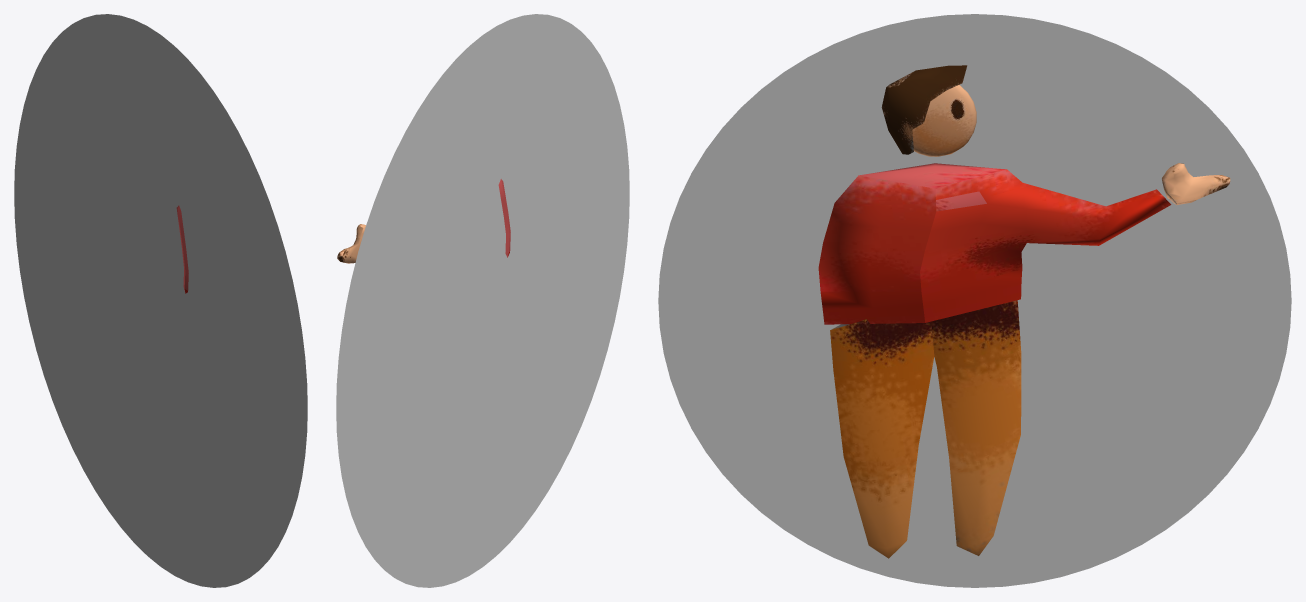
3 renders of one model, left to right at view 1: azimuth 30°, elevation 25°; view 2: azimuth 150°, elevation 25°; view 3: azimuth 270°, elevation 25°, orthographic. The views are drawn at different scales.
Visible parts, largest first — view 1: 圆盘, 胶囊; view 2: 圆盘, 细分曲面.1, 胶囊; view 3: 圆盘, 胶囊, 胶囊.1, 胶囊.2, 球体.1, 细分曲面.2, 细分曲面.1.
Boxes of the visible parts, bbox=[...] form: 圆盘: bbox=[14, 14, 307, 587]; 胶囊: bbox=[176, 205, 188, 293]; 圆盘: bbox=[336, 14, 629, 587]; 细分曲面.1: bbox=[337, 224, 365, 263]; 胶囊: bbox=[498, 179, 510, 257]; 圆盘: bbox=[658, 14, 1291, 587]; 胶囊: bbox=[818, 163, 1171, 324]; 胶囊.1: bbox=[830, 319, 934, 558]; 胶囊.2: bbox=[931, 300, 1021, 555]; 球体.1: bbox=[881, 65, 967, 154]; 细分曲面.2: bbox=[912, 85, 976, 156]; 细分曲面.1: bbox=[1162, 163, 1230, 205].
Size of the model in its own units: 18.1 by 200 by 200.
4 materials, 3 textured.
